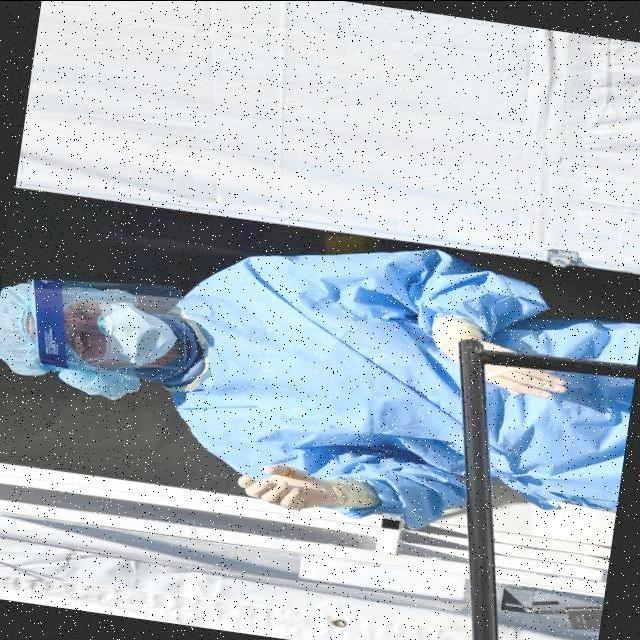apron: (432, 307, 570, 393), (234, 452, 358, 512)
gloves: (0, 288, 57, 374)
mask: (105, 304, 175, 362)
